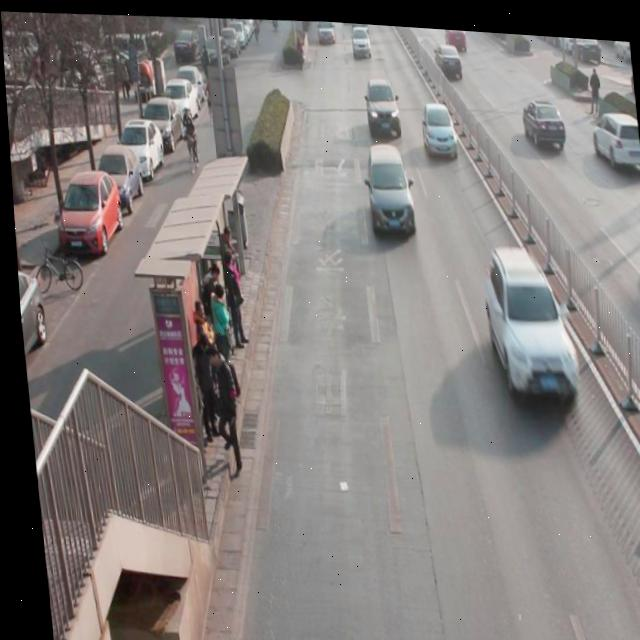car: (479, 241, 579, 408), (358, 136, 414, 238), (587, 97, 640, 169), (419, 89, 459, 160), (522, 89, 566, 145), (363, 72, 402, 131), (432, 36, 463, 75), (348, 24, 374, 55), (317, 17, 336, 44), (444, 23, 466, 44), (351, 18, 368, 28)
